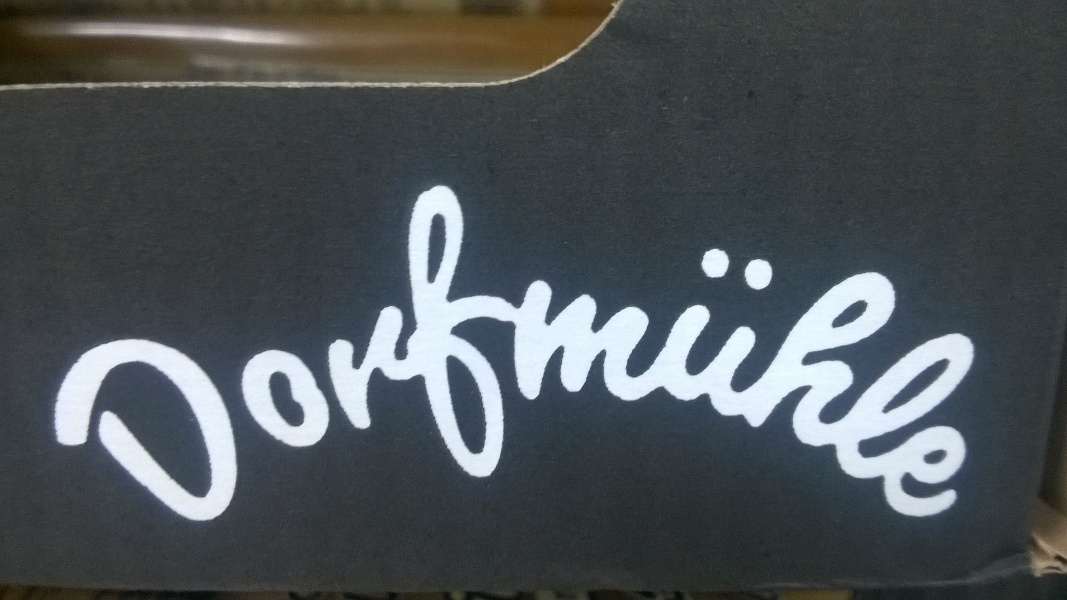text: (65, 183, 80, 535), (81, 183, 96, 535), (97, 183, 112, 535), (113, 183, 128, 535), (129, 183, 144, 535), (145, 183, 160, 535), (161, 183, 176, 535), (177, 183, 192, 535), (193, 183, 208, 535), (209, 183, 224, 535), (225, 183, 240, 535), (241, 183, 256, 535), (257, 183, 272, 535), (273, 183, 288, 535), (289, 183, 304, 535), (305, 183, 320, 535), (321, 183, 336, 535), (337, 183, 352, 535), (353, 183, 368, 535), (369, 183, 384, 535), (385, 183, 400, 535), (401, 183, 416, 535), (417, 183, 432, 535), (433, 183, 448, 535), (449, 183, 464, 535), (465, 183, 480, 535), (481, 183, 496, 535), (497, 183, 512, 535), (513, 183, 528, 535), (529, 183, 544, 535), (545, 183, 560, 535), (561, 183, 576, 535), (577, 183, 592, 535), (593, 183, 608, 535), (609, 183, 624, 535), (625, 183, 640, 535), (641, 183, 656, 535), (657, 183, 672, 535), (673, 183, 688, 535), (689, 183, 704, 535), (705, 183, 720, 535), (721, 183, 736, 535), (737, 183, 752, 535), (753, 183, 768, 535), (769, 183, 784, 535), (785, 183, 800, 535), (801, 183, 816, 535), (817, 183, 832, 535), (833, 183, 848, 535), (849, 183, 864, 535), (865, 183, 880, 535), (881, 183, 896, 535), (897, 183, 912, 535), (913, 183, 928, 535), (929, 183, 944, 535), (945, 183, 960, 535), (961, 183, 976, 535), (52, 183, 64, 535), (977, 183, 980, 535)
